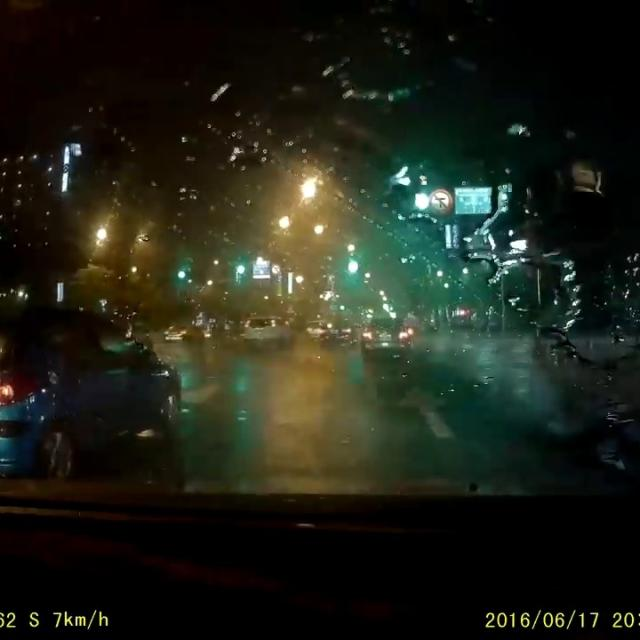Car: (0, 304, 181, 481), (360, 315, 413, 355), (240, 313, 291, 352), (164, 321, 204, 344)
